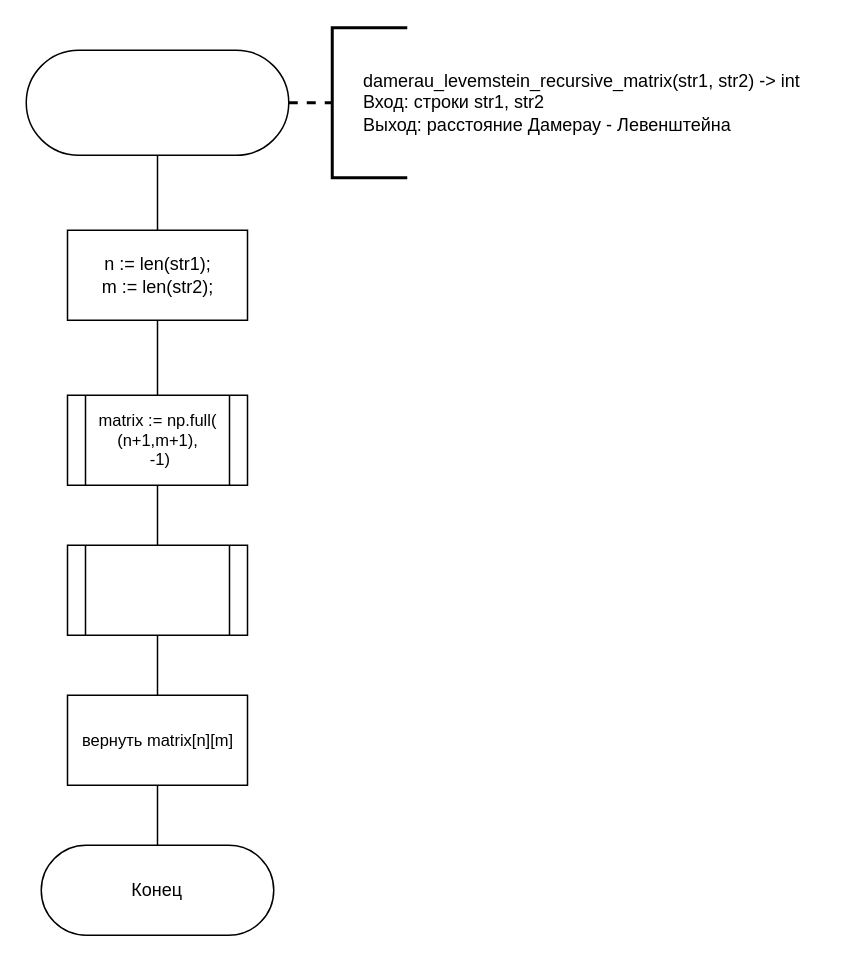
The diagram is 852 pixels wide and 962 high, and some of its shapes have lost their labels. Here are the shapes that lost their labels. From the top down, the centre of each, then its label:
the point at 157,102: Начало
the point at 157,589: recursive(str1, str2, n, m, matrix)
